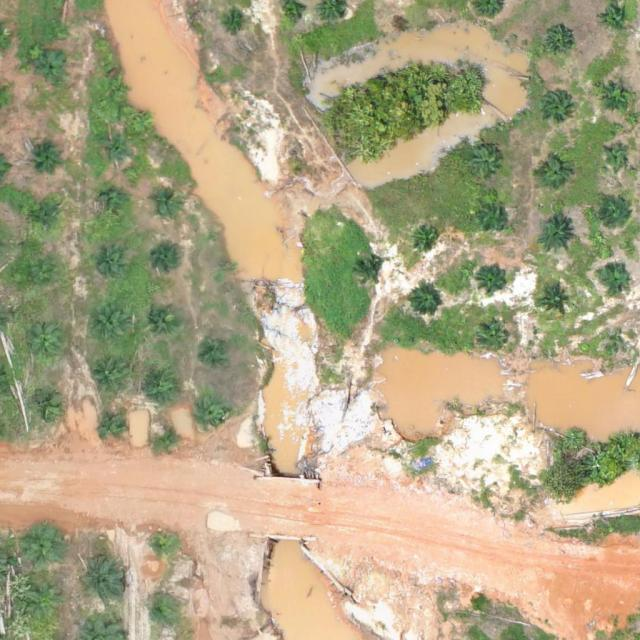Small: (79, 556, 126, 604), (19, 260, 59, 300), (91, 245, 130, 285), (144, 366, 184, 405), (144, 300, 183, 340), (90, 357, 130, 396), (537, 218, 577, 257), (90, 306, 129, 345), (25, 525, 64, 564), (29, 585, 68, 624), (26, 327, 65, 366), (29, 388, 68, 427), (597, 75, 636, 114), (99, 410, 130, 442), (153, 423, 184, 455), (599, 260, 630, 292), (601, 198, 632, 230), (538, 159, 569, 191), (471, 149, 502, 181), (478, 201, 509, 233), (478, 262, 509, 294), (541, 287, 572, 319), (543, 26, 574, 58), (600, 3, 631, 35), (155, 245, 186, 276), (34, 140, 65, 171), (101, 136, 132, 167), (38, 55, 69, 86), (98, 190, 129, 221), (152, 189, 183, 220), (541, 90, 572, 121), (410, 288, 441, 319), (197, 402, 228, 433), (203, 336, 234, 367), (148, 532, 179, 563), (146, 599, 177, 630), (480, 326, 511, 357), (412, 223, 443, 254), (355, 258, 386, 289), (32, 205, 63, 236), (105, 78, 129, 102), (225, 10, 249, 34), (605, 145, 628, 169), (615, 335, 630, 350)
